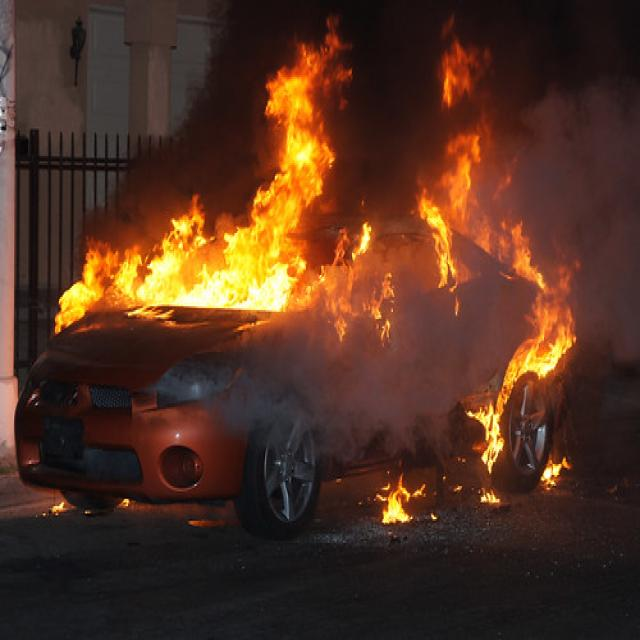fire: (52, 220, 396, 350), (416, 38, 486, 316), (262, 28, 344, 214), (503, 270, 587, 382), (468, 394, 506, 509), (377, 474, 426, 532), (540, 453, 570, 492)
